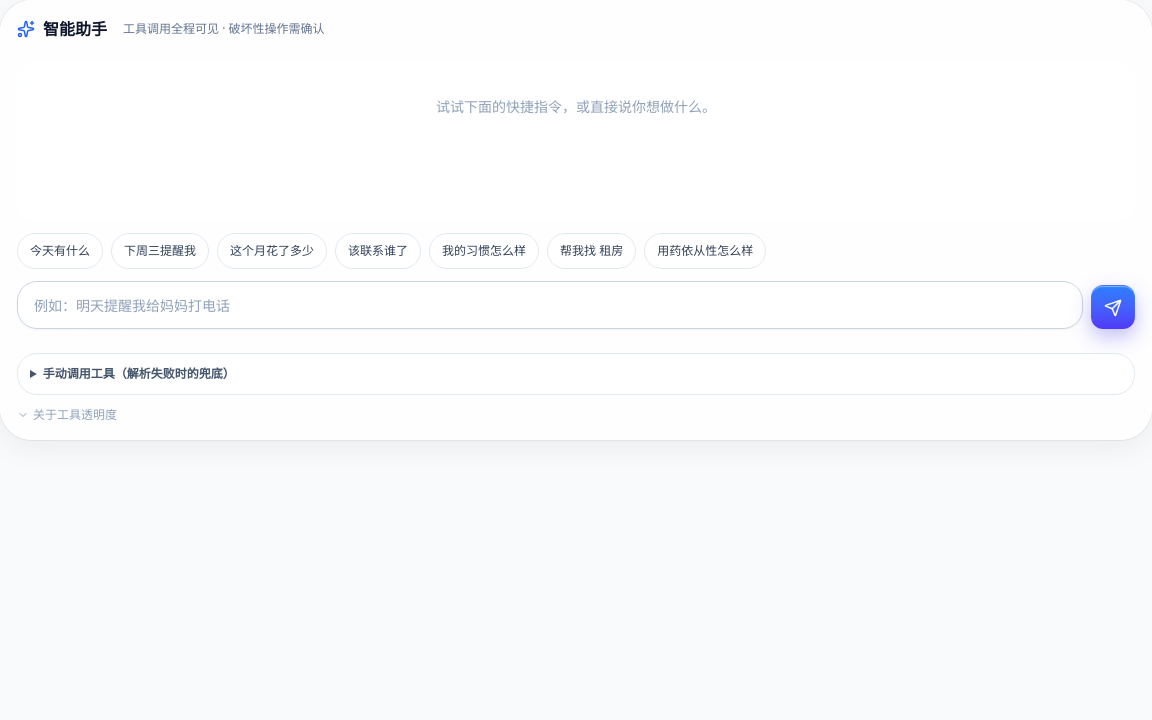
Test: AssistantPanel (checkbox 109) › renders the transcript with the real tool name and the exact args the backend received
Type "2026-10-05 提醒我交报告" into the field with test id "assistant-input".
click(550, 305); type("2026-10-05 提醒我交报告")  # box x1=17 y1=281 x2=1083 y2=329
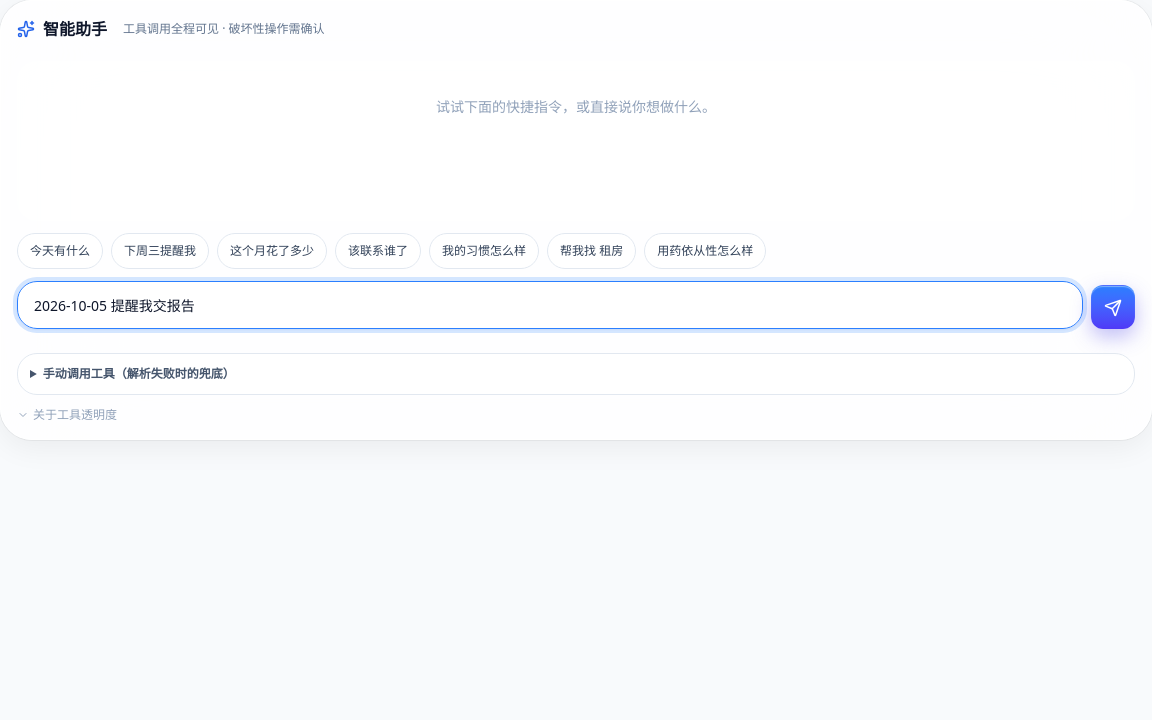
Click the button with test id "assistant-submit".
click(1113, 307)  # box x1=1091 y1=285 x2=1135 y2=329
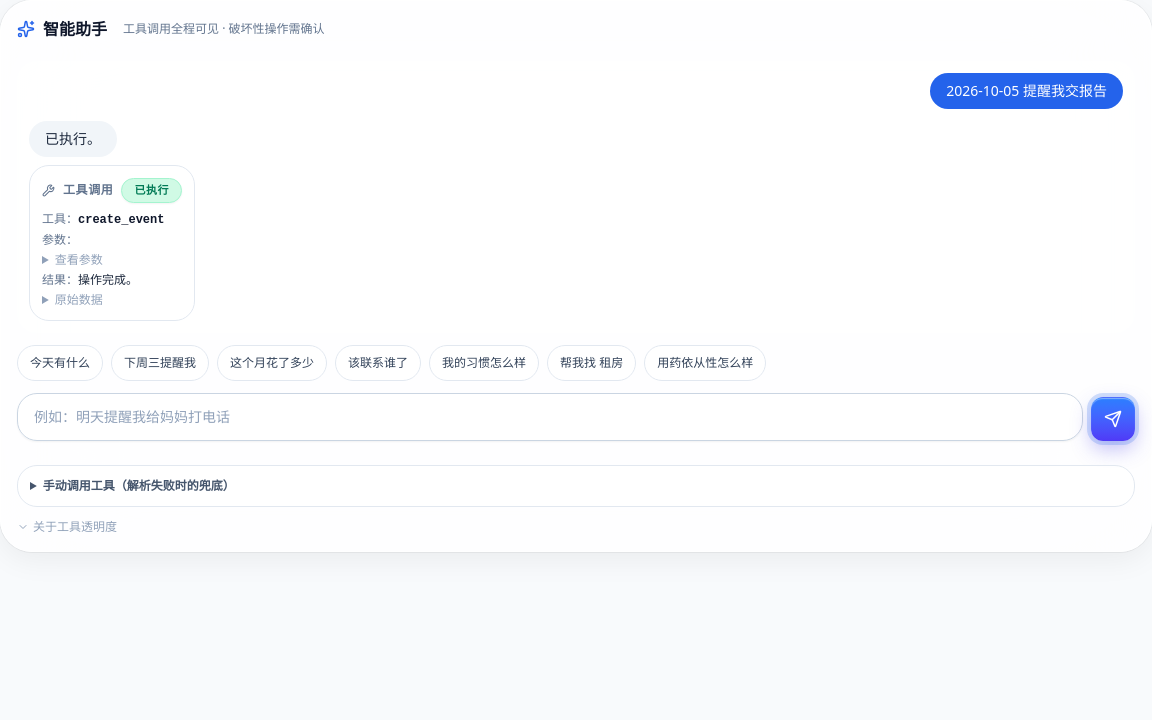
Result: the text with test id "assistant-tool-name" reads "create_event" at x1=78 y1=213 x2=164 y2=227
